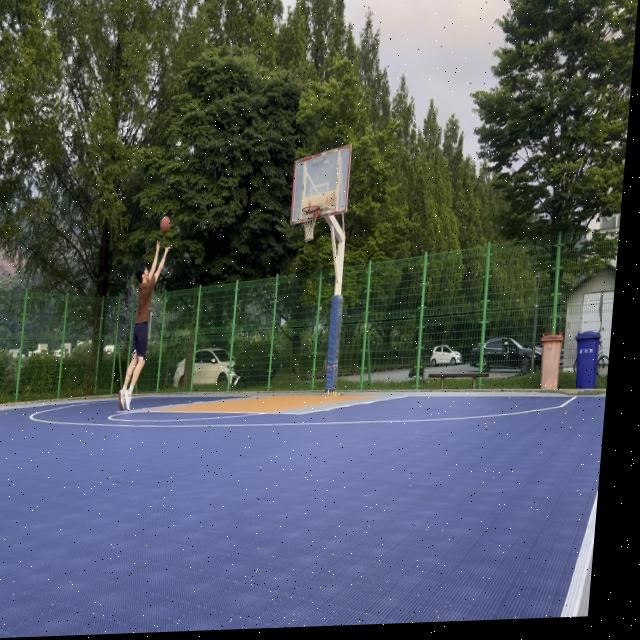basketball: (158, 215, 172, 236)
hoop: (299, 204, 321, 243)
